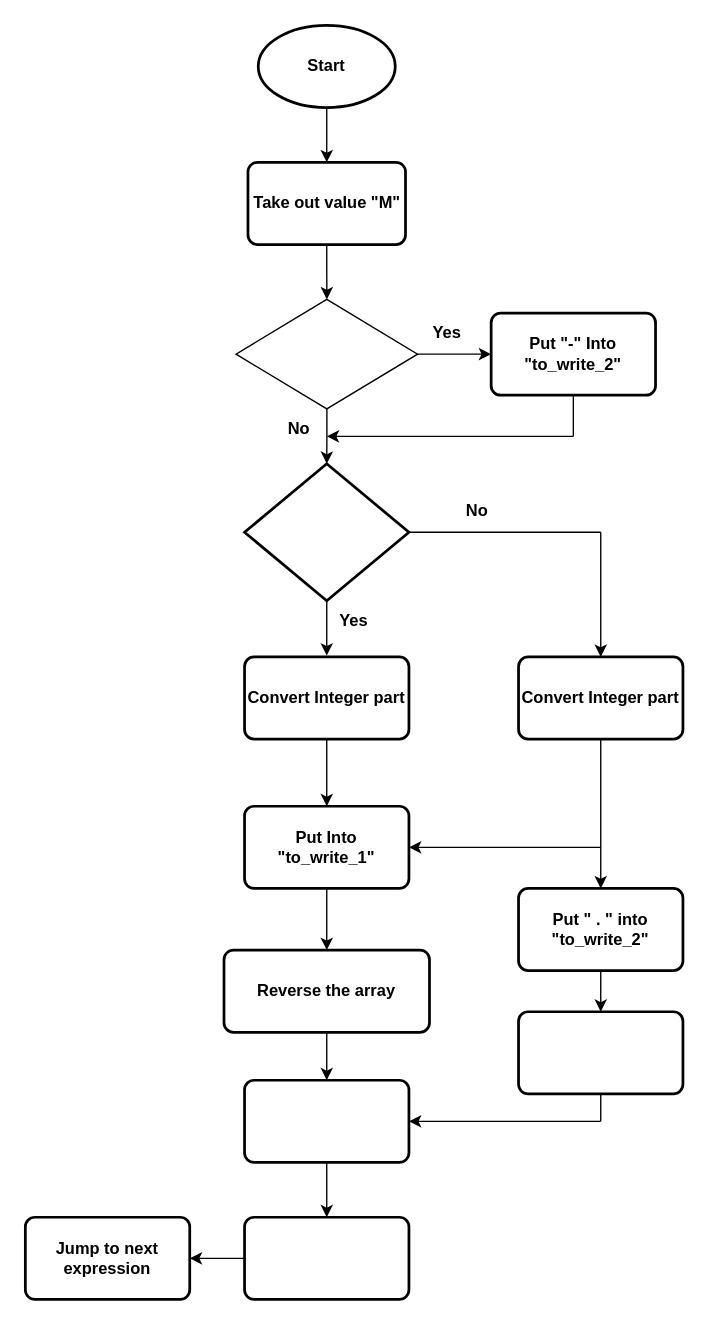
The diagram is 707 pixels wide and 1323 high, and some of its shapes have lost their labels. The shapes that lost their labels are listed below. From the top down, each one's box as (x1, y1, x2, y2) in pixels, then its label:
(235, 298, 418, 409): Check negative or not
(242, 462, 410, 601): Check Integer or not
(516, 1010, 684, 1095): Convert Decimal part
(242, 1078, 410, 1163): Put Into "to_write_2"
(242, 1215, 410, 1300): Print value M on the screen
